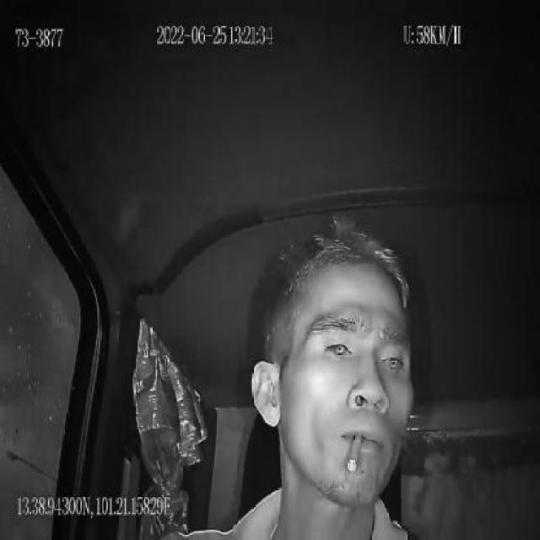smoking: (346, 432, 364, 474)
